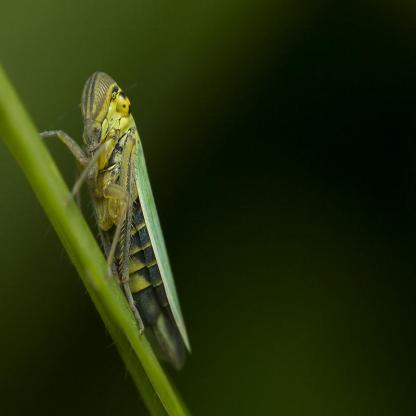Green-Leafhopper: (36, 67, 193, 382)
